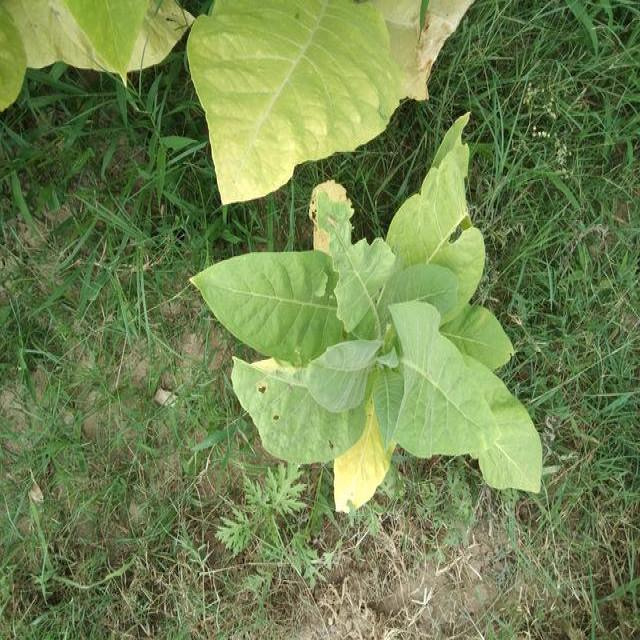crop: (186, 111, 551, 526)
